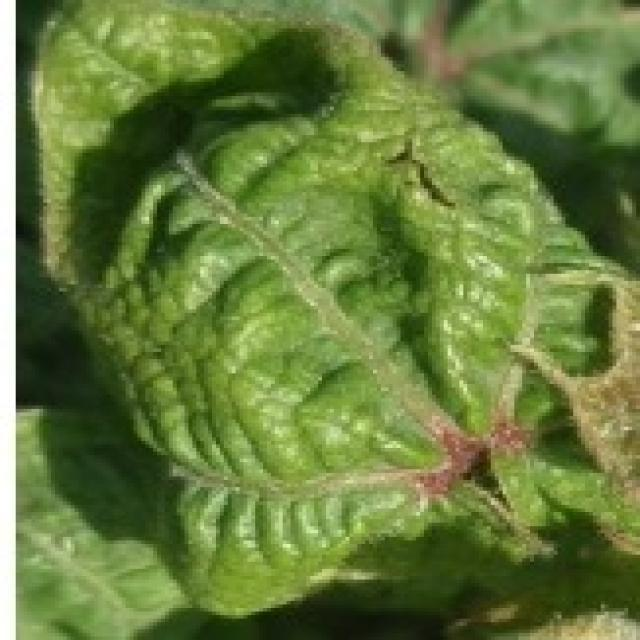Leaf Curl Virus: (78, 63, 630, 598)
